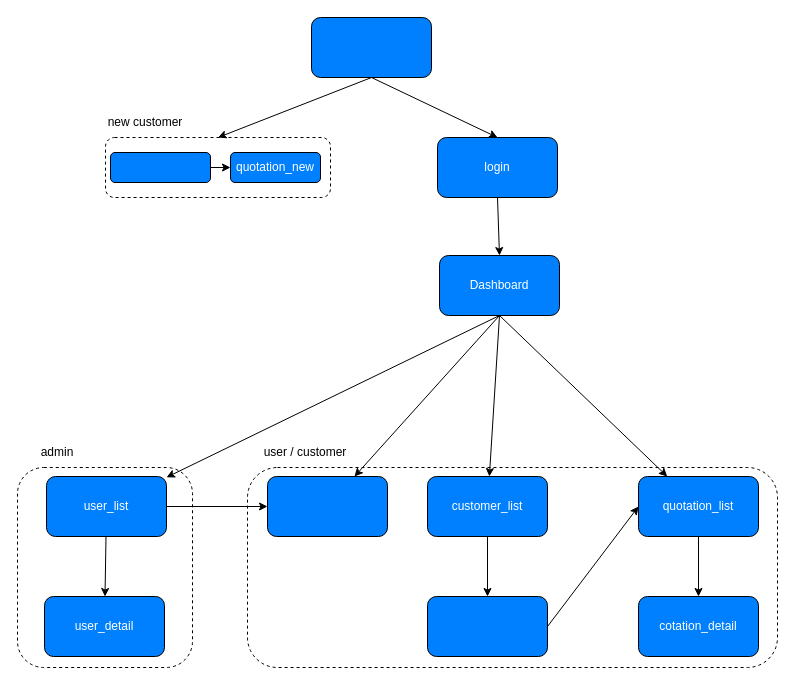
This 795x685 diagram has some shape labels left out. The centre of each missing label's shape, as x and y in pixels:
customer_detail: the point at 487,626
customer_new: the point at 160,167
Home: the point at 371,47
pass_reset: the point at 327,506
